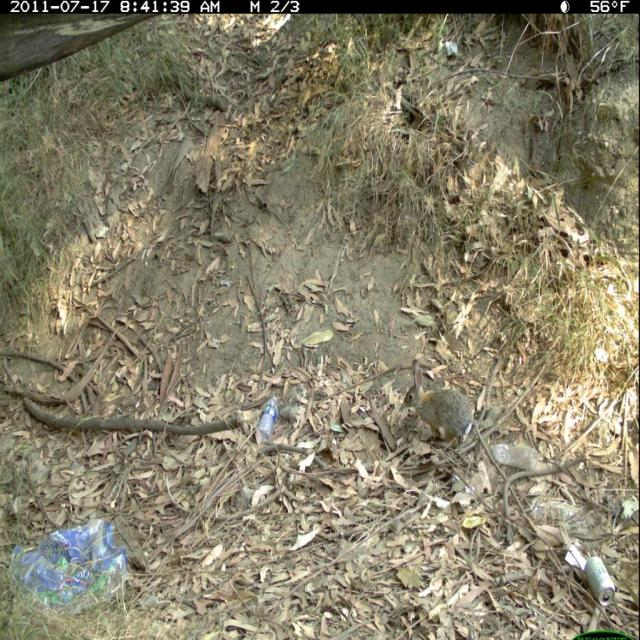rabbit: (398, 355, 484, 447)
